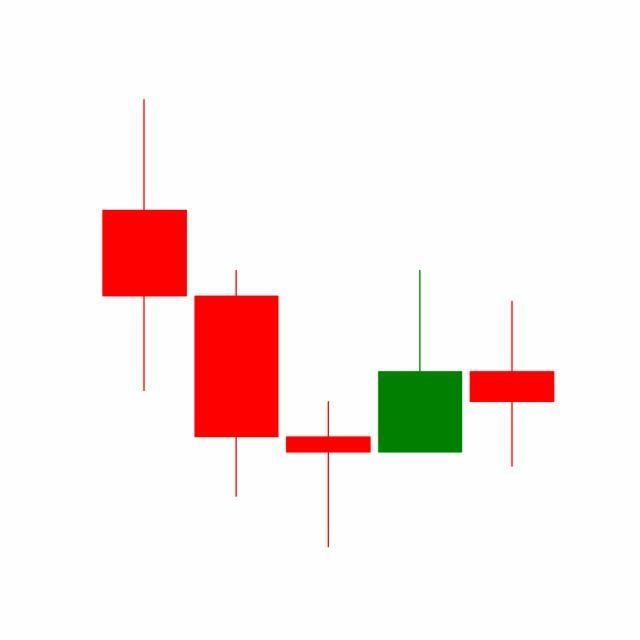Spinning Top: (466, 299, 559, 470)
